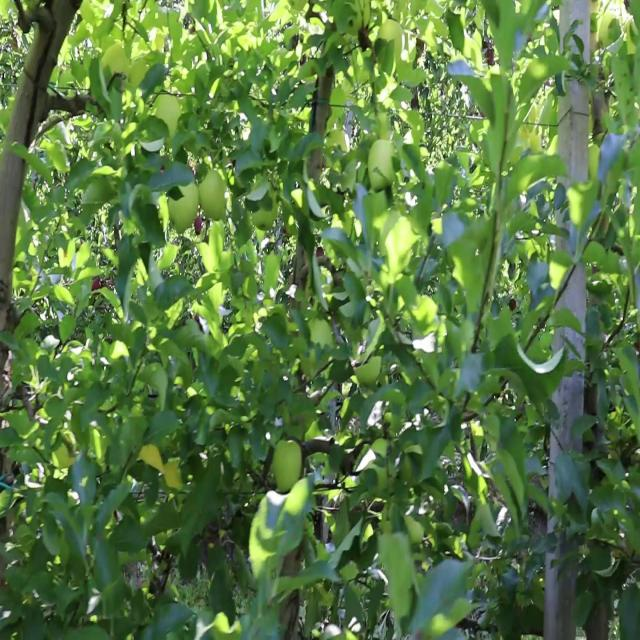apple: (300, 318, 334, 376), (167, 182, 199, 235), (368, 139, 396, 192), (273, 438, 301, 489), (200, 170, 226, 222), (153, 94, 180, 138), (378, 20, 403, 55), (355, 354, 381, 386), (252, 206, 274, 231)
